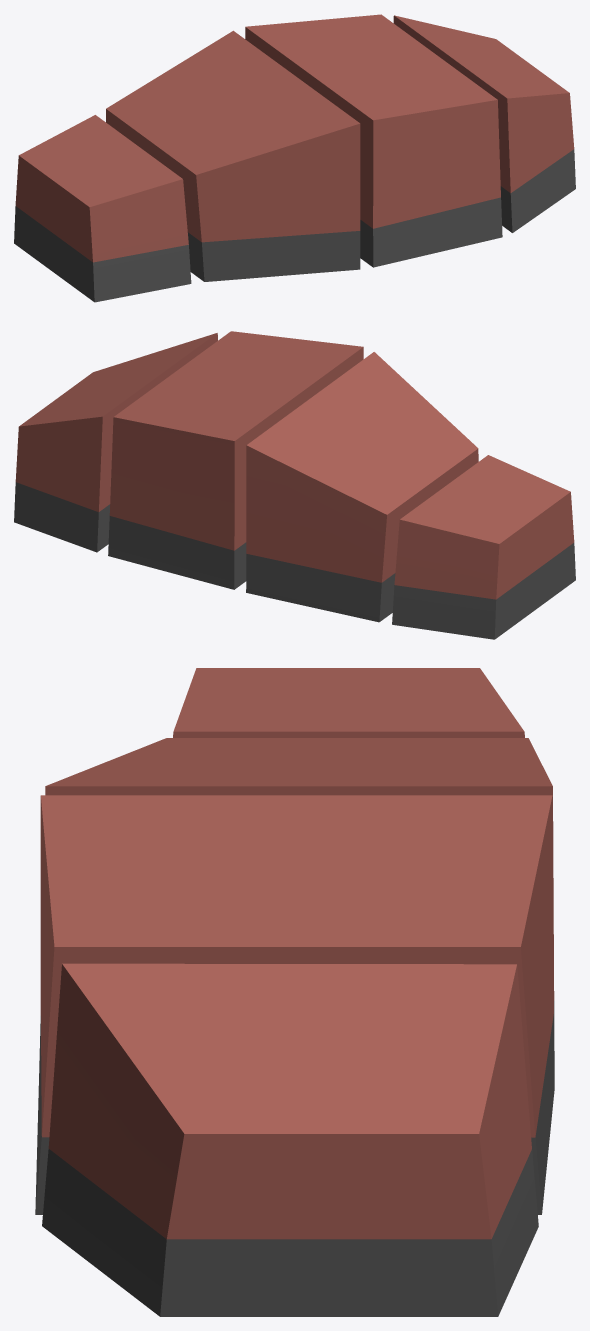
The model's file is salmon cut.fbx.
The picture shows the model from 3 angles, top to bottom: view 1: azimuth 30°, elevation 25°; view 2: azimuth 150°, elevation 25°; view 3: azimuth 270°, elevation 25°; orthographic projection. The views are drawn at different scales.
Visible parts, largest first — view 1: salmon_cut; view 2: salmon_cut; view 3: salmon_cut.
Part boxes in pixels (bbox=[...]): salmon_cut: bbox=[14, 14, 575, 302]; salmon_cut: bbox=[14, 331, 575, 639]; salmon_cut: bbox=[35, 668, 554, 1316].
Bounding box in the file's own units: 36.14 × 10.65 × 17.02.
